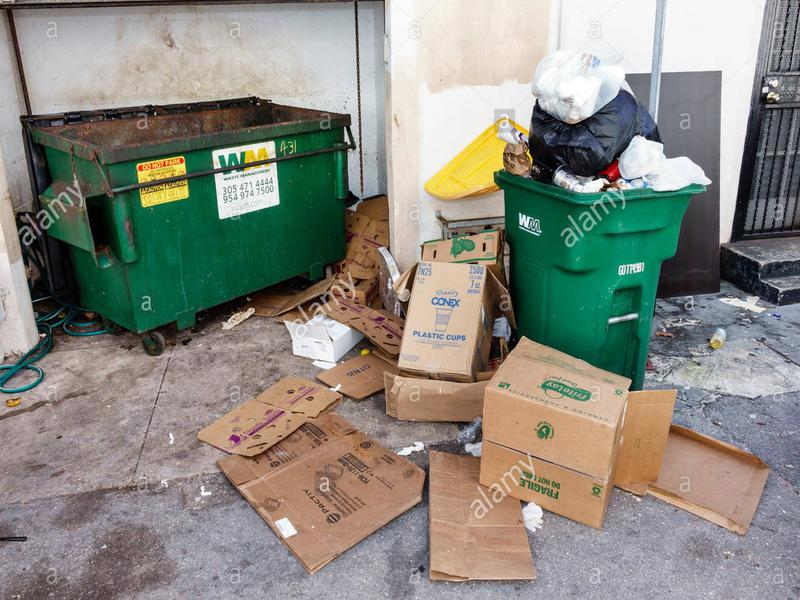cardboard: (192, 374, 427, 574), (475, 332, 680, 528), (387, 227, 501, 425), (423, 443, 535, 587), (649, 420, 782, 534), (279, 309, 367, 366)
plastic: (520, 90, 663, 179), (530, 44, 627, 123), (616, 138, 716, 192)
